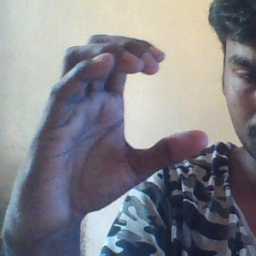C: (68, 28, 219, 174)
